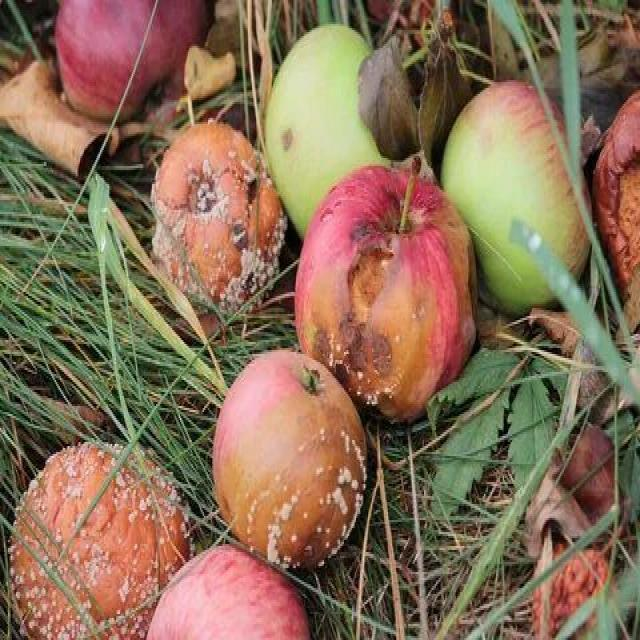Rotten: (300, 172, 478, 402), (212, 362, 373, 565), (20, 445, 175, 640), (148, 135, 280, 315)
